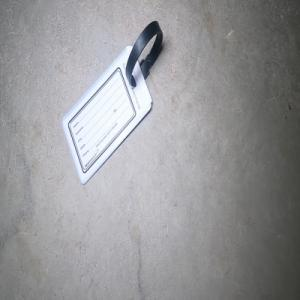LuggageTag: (60, 19, 164, 186)
